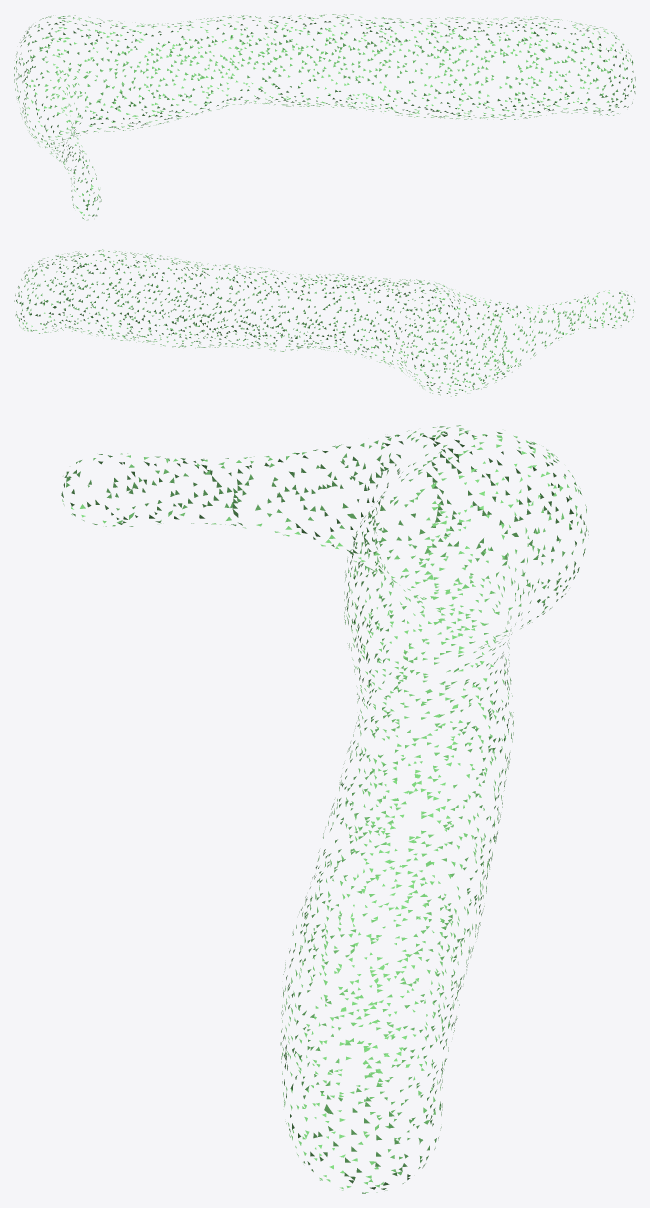
File: morph_017.glb
3 views of the same model, one above another, from view 1: azimuth 30°, elevation 25°; view 2: azimuth 150°, elevation 25°; view 3: azimuth 270°, elevation 25° (orthographic). The views are drawn at different scales.
Bounding box in the file's own units: 148 × 42.87 × 62.57.
